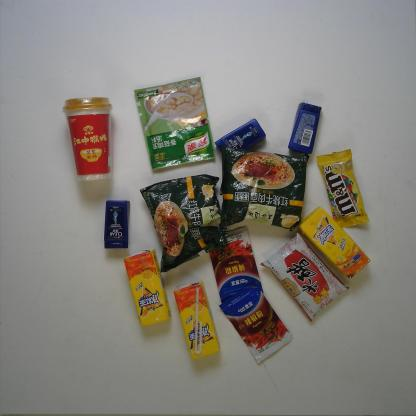Chocolate: (314, 147, 372, 229)
Drink: (297, 204, 372, 282), (172, 278, 223, 362), (121, 246, 173, 328)
Instant Drink: (61, 95, 116, 184)
Instant Noodles: (138, 173, 227, 273), (218, 146, 312, 232)
Personal Hygiene: (213, 116, 269, 156), (287, 101, 324, 156), (102, 199, 131, 250)
Seasoner: (256, 228, 350, 324), (132, 74, 218, 172), (217, 280, 294, 365), (209, 224, 264, 305)
